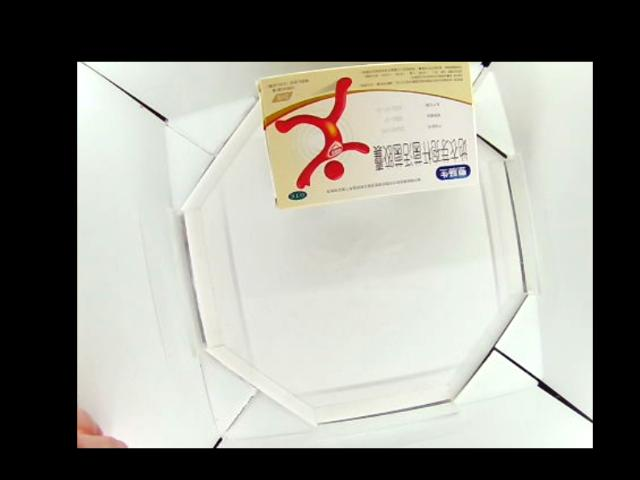Medicine: (260, 62, 479, 210)
